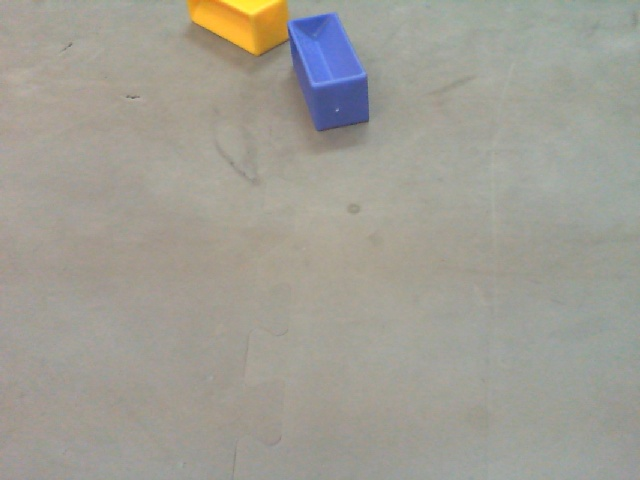BlueSample: (287, 12, 370, 133)
YellowSample: (184, 1, 291, 57)
